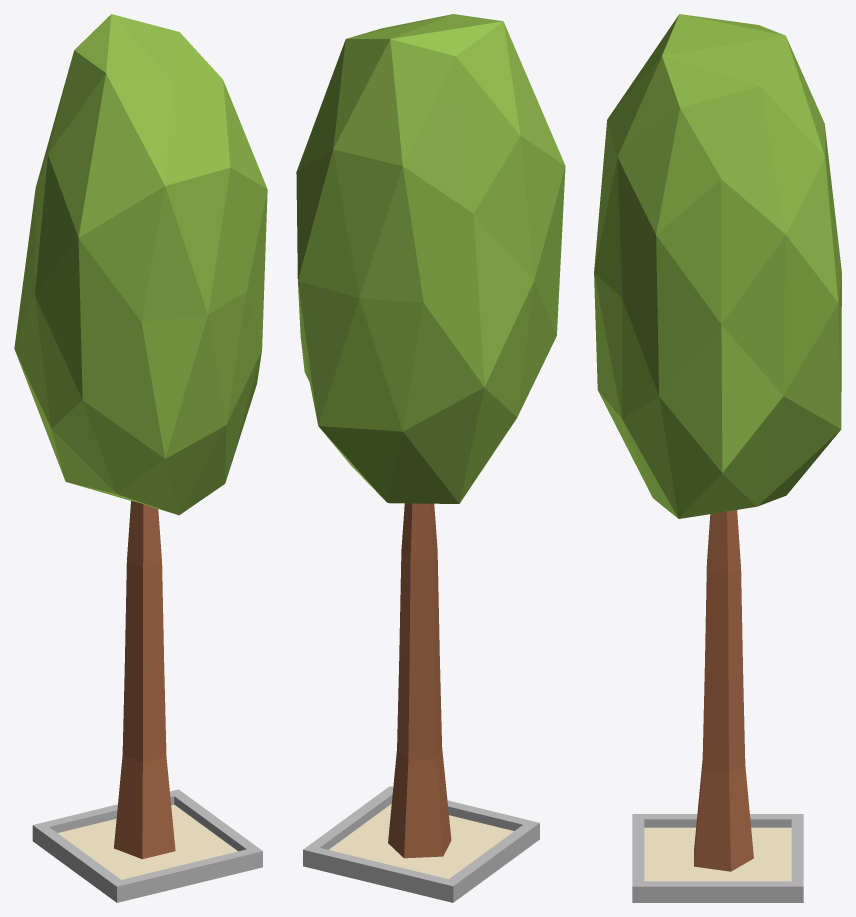
Rendered from tree.fbx.
The picture shows the model from 3 angles, left to right: view 1: azimuth 30°, elevation 25°; view 2: azimuth 150°, elevation 25°; view 3: azimuth 270°, elevation 25°; orthographic projection. The views are drawn at different scales.
Parts seen in each view (by area): view 1: Tree_2; view 2: Tree_2; view 3: Tree_2.
Part boxes in pixels (bbox=[...]): Tree_2: bbox=[14, 14, 267, 902]; Tree_2: bbox=[296, 14, 565, 902]; Tree_2: bbox=[594, 14, 841, 902].
Bounding box in the file's own units: 2.25 × 7.87 × 2.13.
1 material, 1 textured.
